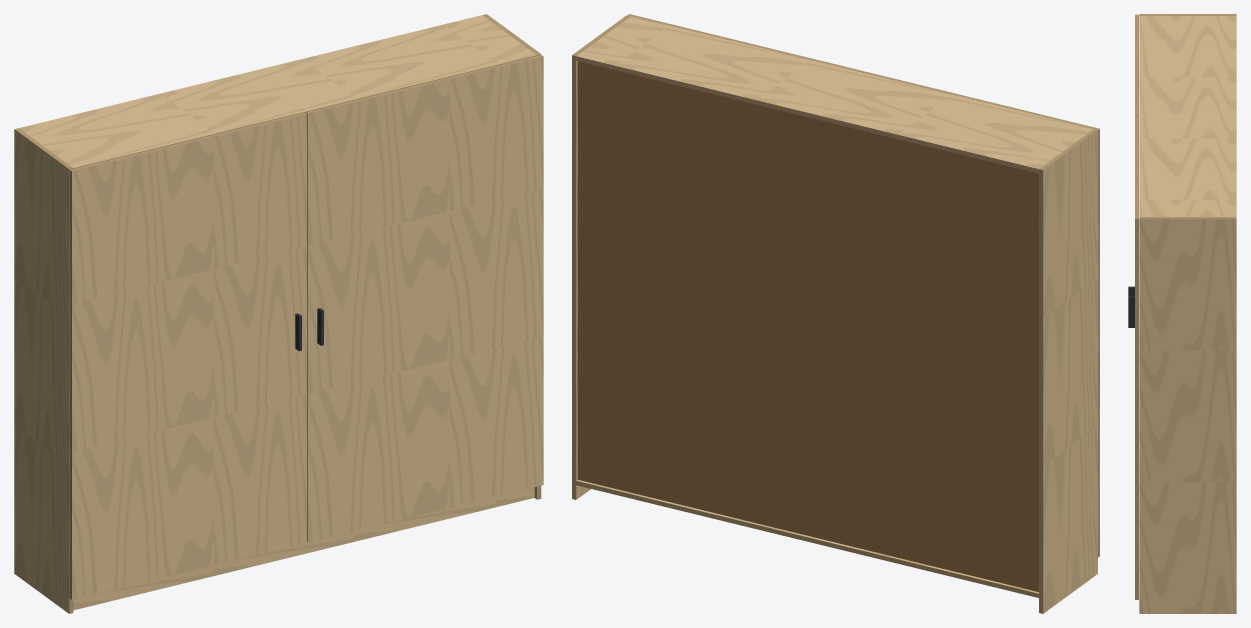
The model's file is SAB-MDU-std.glb.
3 views of the same model, side by side, from view 1: azimuth 30°, elevation 25°; view 2: azimuth 150°, elevation 25°; view 3: azimuth 270°, elevation 25° (orthographic). The views are drawn at different scales.
Parts seen in each view (by area): view 1: door-r:sheet:eyJtIjoicGx5Iiwic2lkZSI6ImZhY2UiLCJzZWVkIjoyLCJ, door-l:sheet:eyJtIjoicGx5Iiwic2lkZSI6ImZhY2UiLCJzZWVkIjoyLCJ, top:sheet:eyJtIjoicGx5Iiwic2lkZSI6ImZhY2UiLCJzZWVkIjo2LCJ2ZW, side-l:sheet:eyJtIjoicGx5Iiwic2lkZSI6ImZhY2UiLCJzZWVkIjoxLCJ, plinth:sheet:eyJtIjoicGx5Iiwic2lkZSI6ImZhY2UiLCJzZWVkIjozLCJ, door-l:sheet:eyJtIjoicGx5Iiwic2lkZSI6ImVkZ2UtbG9uZyIsInNlZWQ; view 2: back:sheet:eyJtIjoibWRmIiwic2lkZSI6ImZhY2UiLCJzZWVkIjoxLCJ0a, top:sheet:eyJtIjoicGx5Iiwic2lkZSI6ImZhY2UiLCJzZWVkIjo2LCJ2ZW, side-l:sheet:eyJtIjoicGx5Iiwic2lkZSI6ImZhY2UiLCJzZWVkIjoxLCJ, bottom:sheet:eyJtIjoicGx5Iiwic2lkZSI6ImVkZ2UtbG9uZyIsInNlZWQ, top:sheet:eyJtIjoicGx5Iiwic2lkZSI6ImVkZ2UtbG9uZyIsInNlZWQiOj, side-l:sheet:eyJtIjoicGx5Iiwic2lkZSI6ImVkZ2UtbG9uZyIsInNlZWQ, side-r:sheet:eyJtIjoicGx5Iiwic2lkZSI6ImVkZ2UtbG9uZyIsInNlZWQ, bottom:sheet:eyJtIjoicGx5Iiwic2lkZSI6ImZhY2UiLCJzZWVkIjowLCJ, side-r:sheet:eyJtIjoicGx5Iiwic2lkZSI6ImZhY2UiLCJzZWVkIjozLCJ, door-l:sheet:eyJtIjoicGx5Iiwic2lkZSI6ImVkZ2UtbG9uZyIsInNlZWQ; view 3: side-r:sheet:eyJtIjoicGx5Iiwic2lkZSI6ImZhY2UiLCJzZWVkIjozLCJ, top:sheet:eyJtIjoicGx5Iiwic2lkZSI6ImZhY2UiLCJzZWVkIjo2LCJ2ZW, door-r:sheet:eyJtIjoicGx5Iiwic2lkZSI6ImVkZ2UtbG9uZyIsInNlZWQ, door-l:sheet:eyJtIjoicGx5Iiwic2lkZSI6ImVkZ2UtZW5kIiwic2VlZCI, door-r:sheet:eyJtIjoicGx5Iiwic2lkZSI6ImVkZ2UtZW5kIiwic2VlZCI, pull, side-l:sheet:eyJtIjoicGx5Iiwic2lkZSI6ImVkZ2UtZW5kIiwic2VlZCI, side-r:sheet:eyJtIjoicGx5Iiwic2lkZSI6ImVkZ2UtZW5kIiwic2VlZCI.
Part boxes in pixels (x1,y1,x2,y2): door-r:sheet:eyJtIjoicGx5Iiwic2lkZSI6ImZhY2UiLCJzZWVkIjoyLCJ: (308, 56, 543, 542); door-l:sheet:eyJtIjoicGx5Iiwic2lkZSI6ImZhY2UiLCJzZWVkIjoyLCJ: (72, 114, 307, 599); top:sheet:eyJtIjoicGx5Iiwic2lkZSI6ImZhY2UiLCJzZWVkIjo2LCJ2ZW: (19, 15, 536, 168); side-l:sheet:eyJtIjoicGx5Iiwic2lkZSI6ImZhY2UiLCJzZWVkIjoxLCJ: (14, 129, 69, 613); plinth:sheet:eyJtIjoicGx5Iiwic2lkZSI6ImZhY2UiLCJzZWVkIjozLCJ: (73, 487, 534, 610); door-l:sheet:eyJtIjoicGx5Iiwic2lkZSI6ImVkZ2UtbG9uZyIsInNlZWQ: (69, 170, 71, 599); back:sheet:eyJtIjoibWRmIiwic2lkZSI6ImZhY2UiLCJzZWVkIjoxLCJ0a: (577, 61, 1038, 591); top:sheet:eyJtIjoicGx5Iiwic2lkZSI6ImZhY2UiLCJzZWVkIjo2LCJ2ZW: (576, 16, 1093, 168); side-l:sheet:eyJtIjoicGx5Iiwic2lkZSI6ImZhY2UiLCJzZWVkIjoxLCJ: (1043, 130, 1097, 613); bottom:sheet:eyJtIjoicGx5Iiwic2lkZSI6ImVkZ2UtbG9uZyIsInNlZWQ: (576, 481, 1038, 597); top:sheet:eyJtIjoicGx5Iiwic2lkZSI6ImVkZ2UtbG9uZyIsInNlZWQiOj: (576, 56, 1038, 173); side-l:sheet:eyJtIjoicGx5Iiwic2lkZSI6ImVkZ2UtbG9uZyIsInNlZWQ: (1039, 169, 1043, 613); side-r:sheet:eyJtIjoicGx5Iiwic2lkZSI6ImVkZ2UtbG9uZyIsInNlZWQ: (572, 55, 576, 499); bottom:sheet:eyJtIjoicGx5Iiwic2lkZSI6ImZhY2UiLCJzZWVkIjowLCJ: (576, 480, 1038, 593); side-r:sheet:eyJtIjoicGx5Iiwic2lkZSI6ImZhY2UiLCJzZWVkIjozLCJ: (576, 61, 590, 499); door-l:sheet:eyJtIjoicGx5Iiwic2lkZSI6ImVkZ2UtbG9uZyIsInNlZWQ: (1098, 129, 1099, 557); side-r:sheet:eyJtIjoicGx5Iiwic2lkZSI6ImZhY2UiLCJzZWVkIjozLCJ: (1139, 218, 1236, 613); top:sheet:eyJtIjoicGx5Iiwic2lkZSI6ImZhY2UiLCJzZWVkIjo2LCJ2ZW: (1139, 16, 1236, 216); door-r:sheet:eyJtIjoicGx5Iiwic2lkZSI6ImVkZ2UtbG9uZyIsInNlZWQ: (1135, 219, 1138, 599); door-l:sheet:eyJtIjoicGx5Iiwic2lkZSI6ImVkZ2UtZW5kIiwic2VlZCI: (1135, 14, 1138, 116); door-r:sheet:eyJtIjoicGx5Iiwic2lkZSI6ImVkZ2UtZW5kIiwic2VlZCI: (1135, 117, 1138, 218); pull: (1128, 286, 1134, 327); side-l:sheet:eyJtIjoicGx5Iiwic2lkZSI6ImVkZ2UtZW5kIiwic2VlZCI: (1139, 14, 1236, 15); side-r:sheet:eyJtIjoicGx5Iiwic2lkZSI6ImVkZ2UtZW5kIiwic2VlZCI: (1139, 217, 1236, 218).
Size of the model in its own units: 2 by 1.8 by 0.4468.
34 materials, 33 textured.
